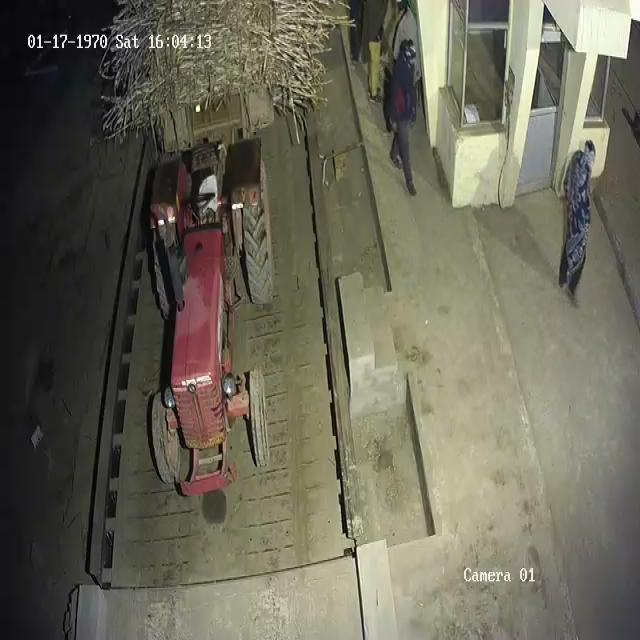Tratores - v5 YOLO V8L 2024-11-13: (143, 158, 284, 504)
